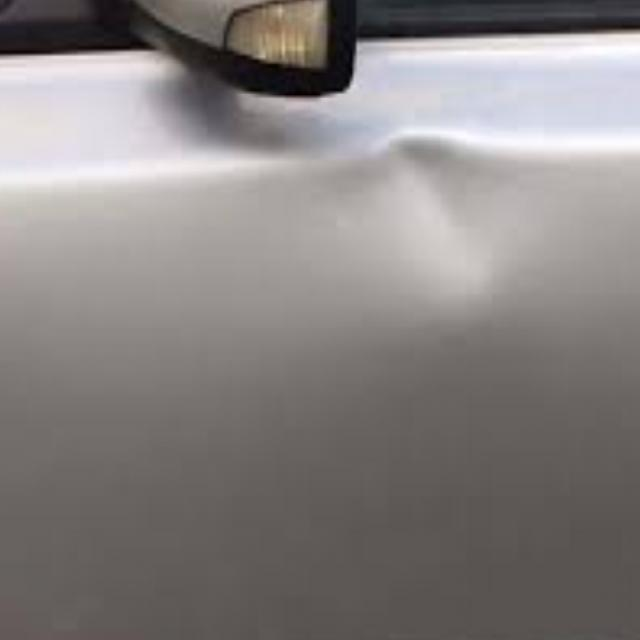dents: (370, 123, 521, 315)
